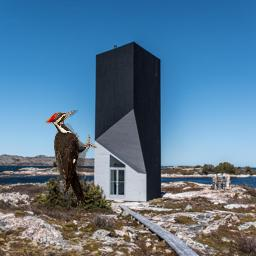Woodpecker: (45, 110, 97, 208)
